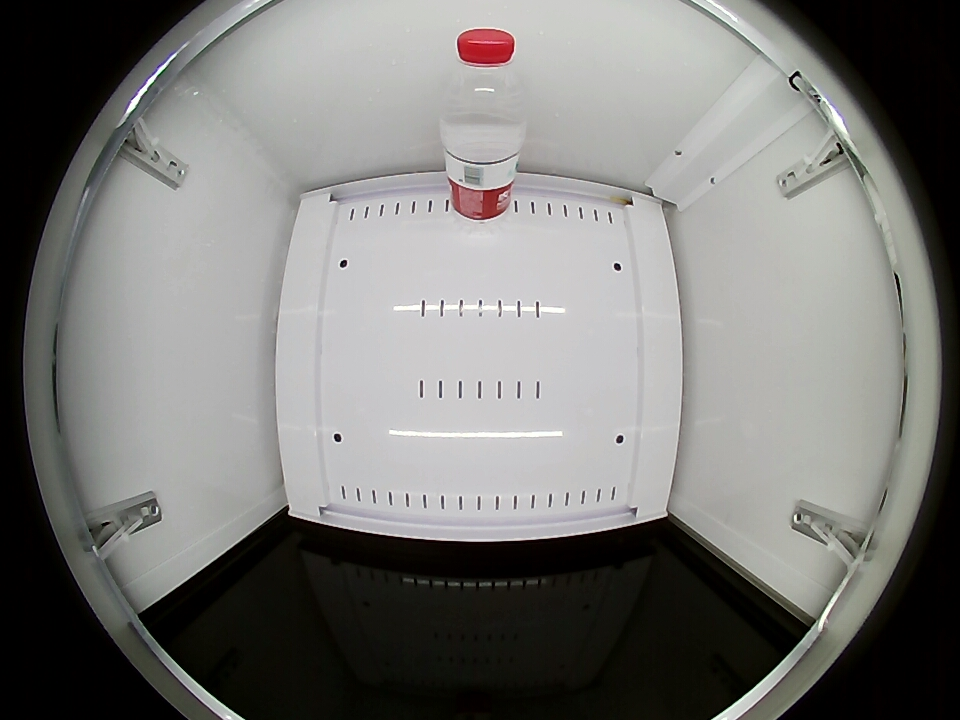nongfushanquan: (445, 28, 522, 128)
